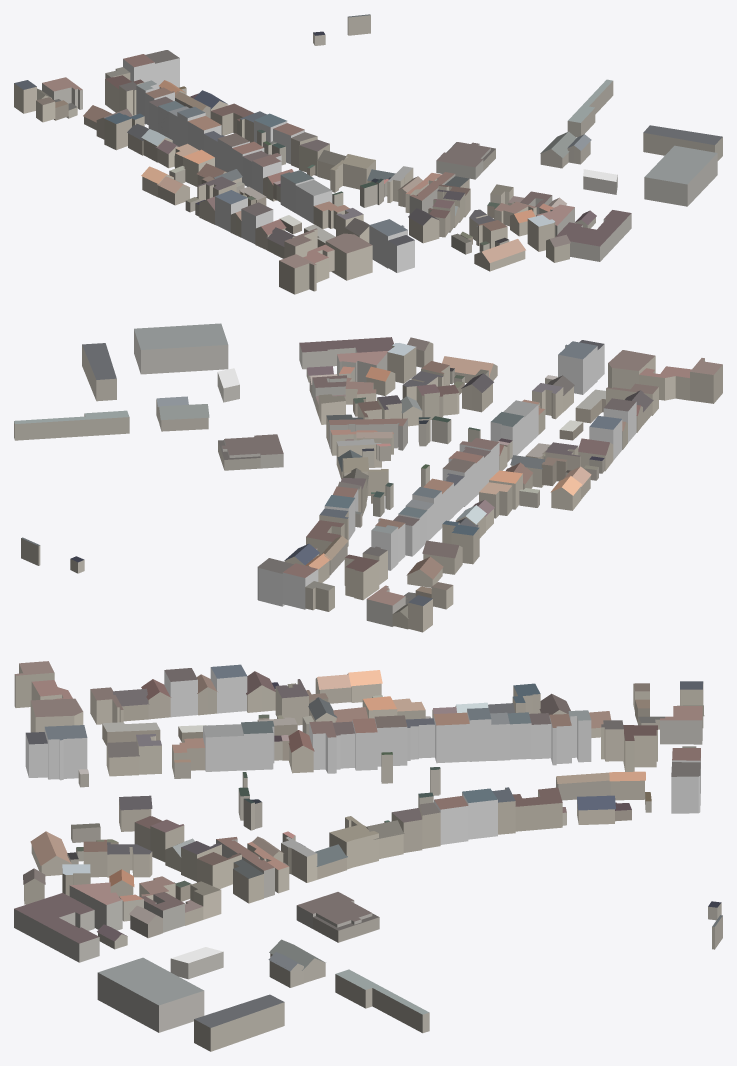
3 renders of one model, top to bottom at view 1: azimuth 30°, elevation 25°; view 2: azimuth 150°, elevation 25°; view 3: azimuth 270°, elevation 25°, orthographic. The views are drawn at different scales.
Parts seen in each view (by area): view 1: tuile; view 2: tuile; view 3: tuile.
Boxes of the visible parts, <box> form: tuile: <box>14,14,722,294</box>; tuile: <box>14,323,722,632</box>; tuile: <box>14,661,722,1051</box>.
Bounding box in the file's own units: 264 × 35.29 × 255.
